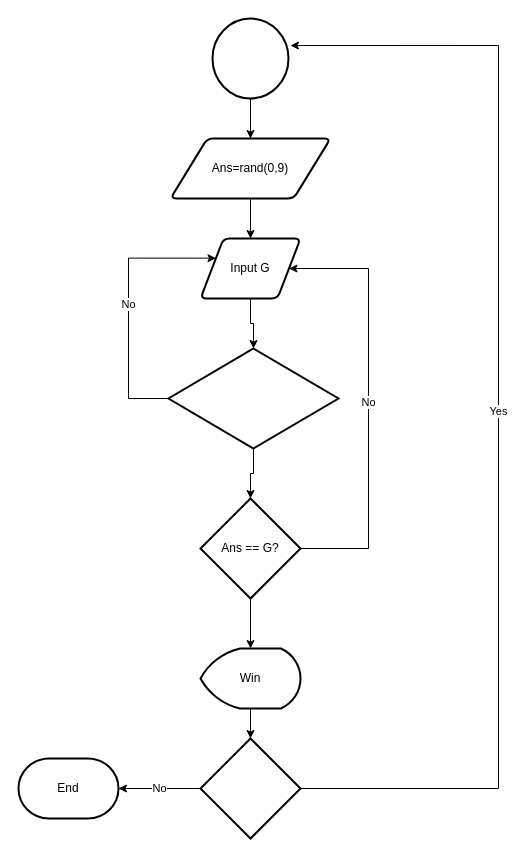
The diagram is 524 pixels wide and 856 high, and some of its shapes have lost their labels. The box of each missing label's shape, as (x1, y1, x2, y2) in pixels:
0<= G && G<=9 ?: (167, 347, 339, 449)
Again?: (199, 737, 301, 839)
Start: (211, 17, 289, 99)
